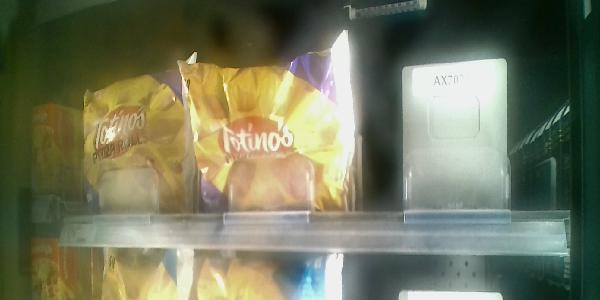icecream: (184, 49, 344, 299), (78, 51, 189, 300)
